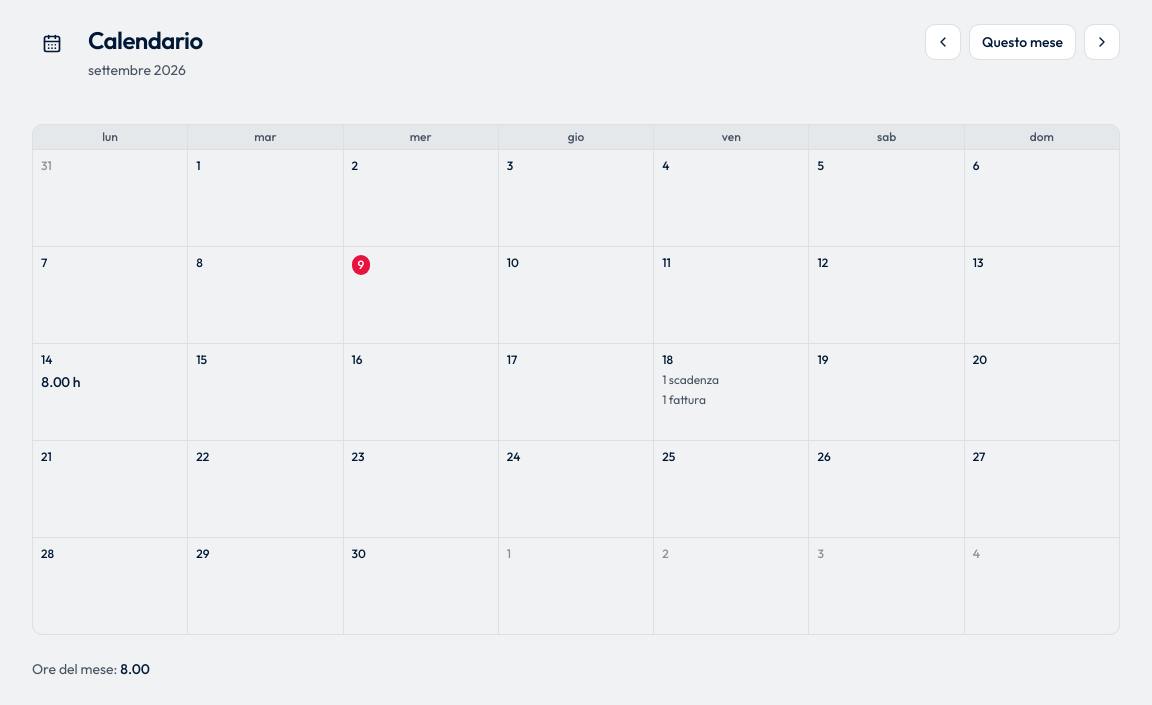
Scenario: CalendarPage › opens a day and shows what is on it
Click the button with aria-label "18/09/2026:" at coordinates (731, 392), box top-left (654, 344), bottom-right (808, 440)
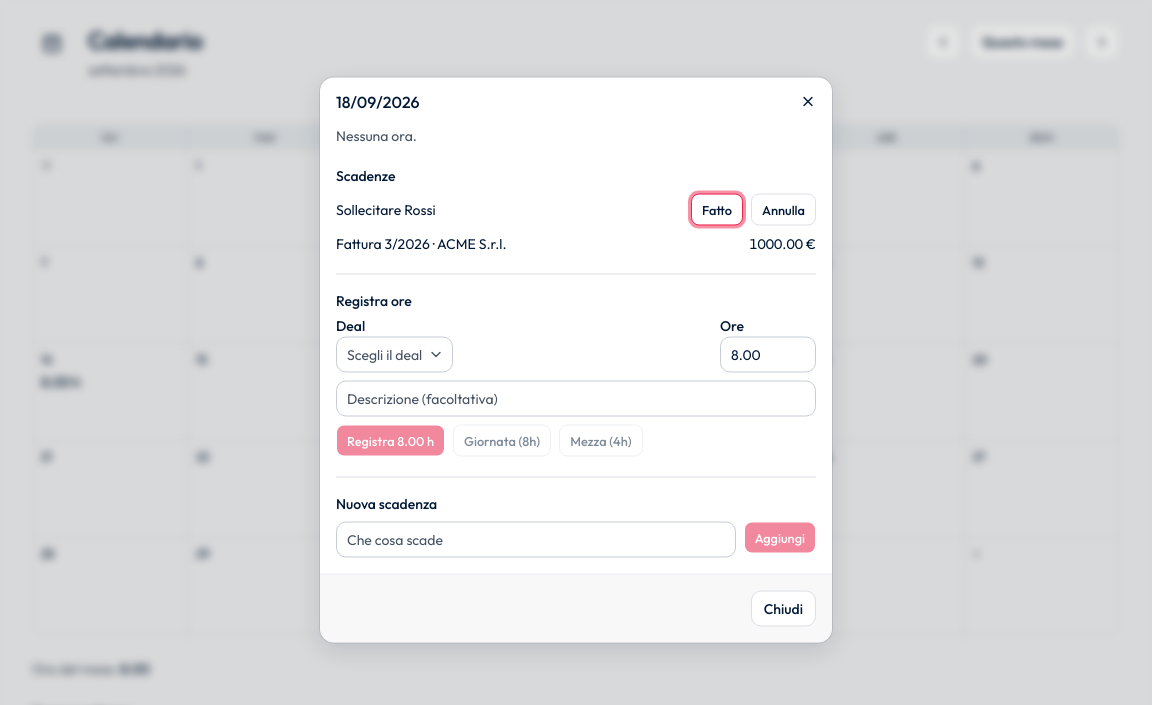
Expected: the dialog is shown, top-left (320, 78), bottom-right (832, 642)
Expected: the text "Sollecitare Rossi" is shown, top-left (336, 200), bottom-right (436, 220)
